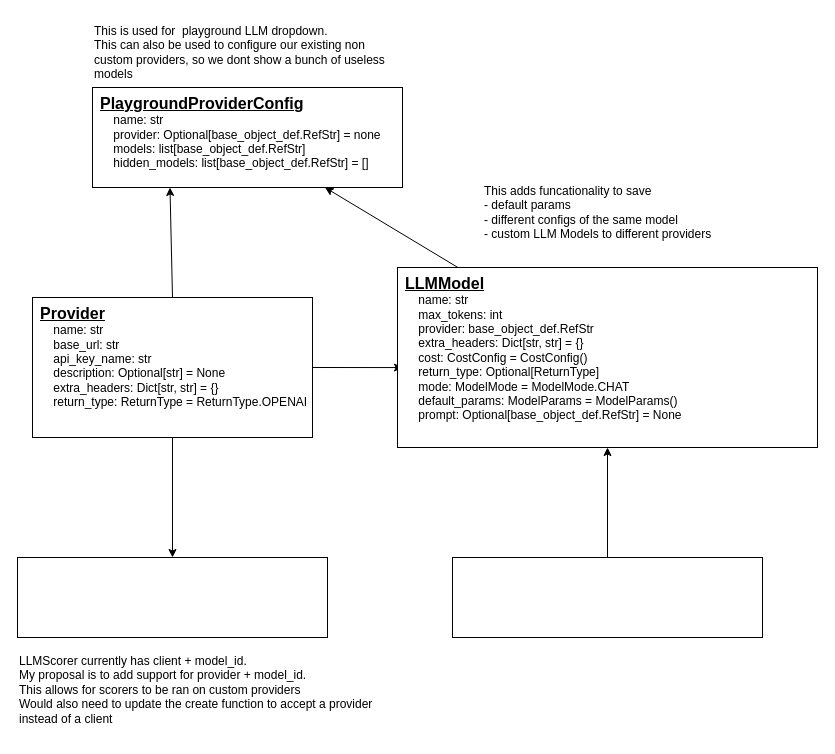
Image size: 835x754. Some labels were removed from this diagram. Here are the shapes that lost their labels. From the top down, the centre of each, then its label:
At (172,597): "LLMScorer client: LLM_clients | base_object_def.RefStr model_id: string".
At (607,597): "Prompt".
